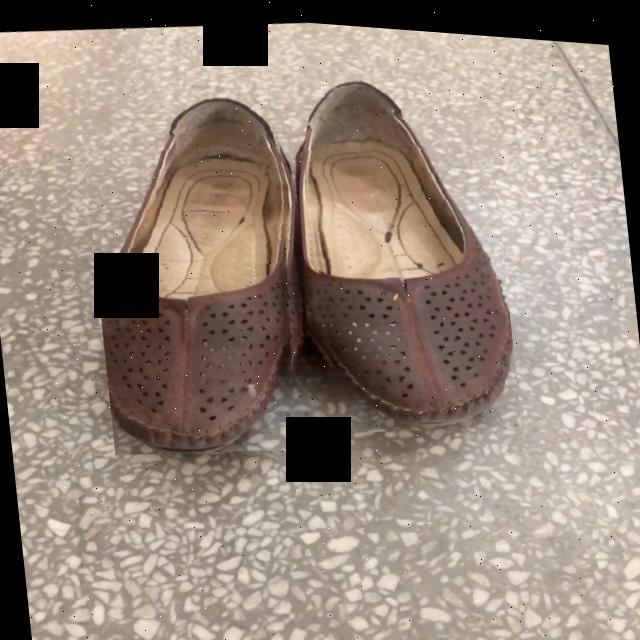shoe: (305, 74, 515, 423), (103, 77, 282, 450)
